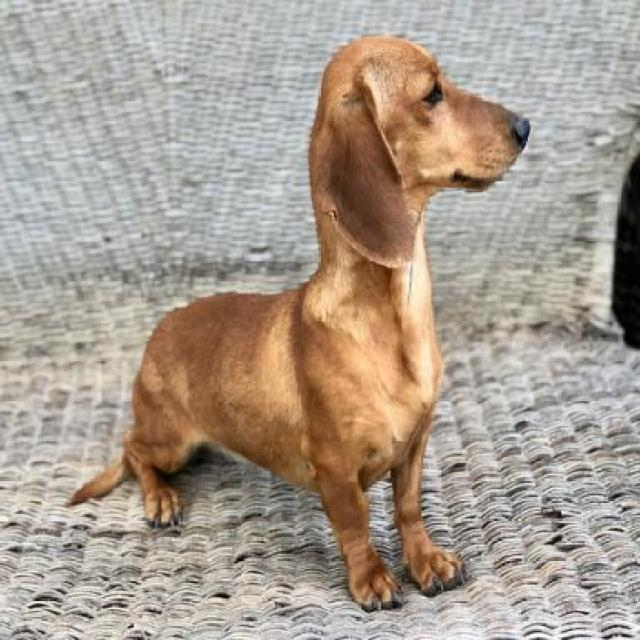Dog: (65, 31, 529, 609)
